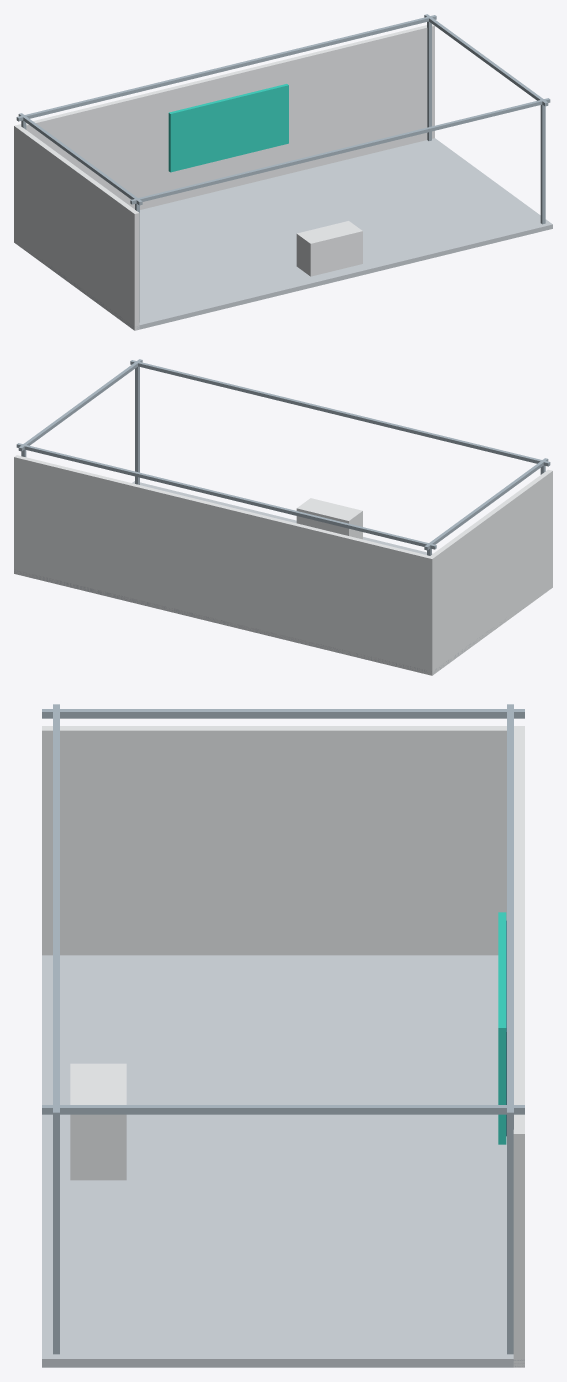
The picture shows the model from 3 angles, top to bottom: view 1: azimuth 30°, elevation 25°; view 2: azimuth 150°, elevation 25°; view 3: azimuth 270°, elevation 25°; orthographic projection. The views are drawn at different scales.
Visible parts, largest first — view 1: Exhibition Booth Concept; view 2: Exhibition Booth Concept; view 3: Exhibition Booth Concept.
Part boxes in pixels (bbox=[...]): Exhibition Booth Concept: bbox=[14, 14, 552, 330]; Exhibition Booth Concept: bbox=[14, 359, 552, 675]; Exhibition Booth Concept: bbox=[42, 704, 524, 1367].
Bounding box in the file's own units: 12 × 3.49 × 6.
